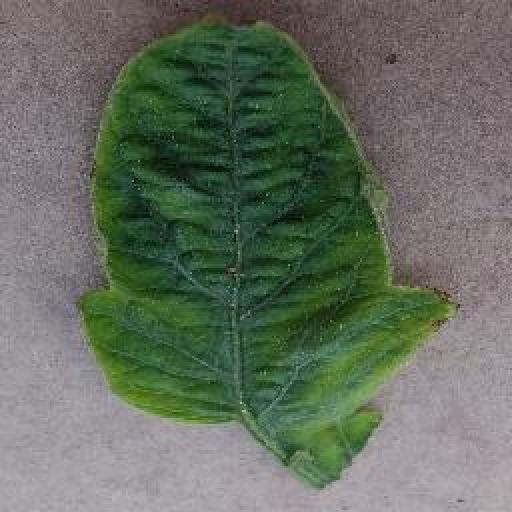disease_tomato: (80, 17, 463, 444)
